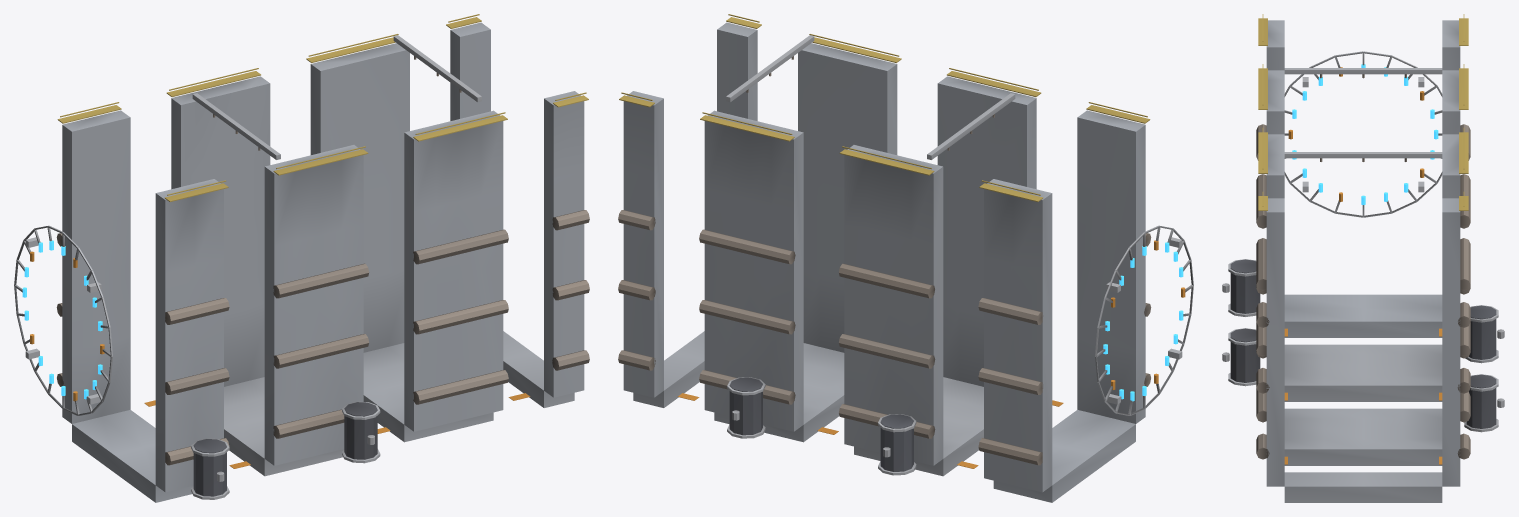
Rendered from 07_fuel_canyon.glb.
3 views of the same model, side by side, from view 1: azimuth 30°, elevation 25°; view 2: azimuth 150°, elevation 25°; view 3: azimuth 270°, elevation 25° (orthographic). The views are drawn at different scales.
Parts seen in each view (by area): view 1: fuel_canyon_shiphull, fuel_canyon_pipe_nocol, fuel_canyon_steel_nocol, fuel_canyon_truss_nocol, fuel_canyon_hulldark_nocol, fuel_canyon_glowcyan_nocol; view 2: fuel_canyon_shiphull, fuel_canyon_pipe_nocol, fuel_canyon_steel_nocol, fuel_canyon_truss_nocol, fuel_canyon_hulldark_nocol, fuel_canyon_glowcyan_nocol; view 3: fuel_canyon_shiphull, fuel_canyon_steel_nocol, fuel_canyon_hulldark_nocol, fuel_canyon_pipe_nocol, fuel_canyon_truss_nocol, fuel_canyon_glowcyan_nocol, fuel_canyon_hazard_nocol.
Boxes of the visible parts, bbox=[...] form: fuel_canyon_shiphull: bbox=[62, 22, 584, 502]; fuel_canyon_pipe_nocol: bbox=[56, 56, 589, 465]; fuel_canyon_steel_nocol: bbox=[14, 35, 481, 499]; fuel_canyon_truss_nocol: bbox=[57, 14, 588, 201]; fuel_canyon_hulldark_nocol: bbox=[193, 402, 377, 496]; fuel_canyon_glowcyan_nocol: bbox=[22, 240, 102, 399]; fuel_canyon_shiphull: bbox=[623, 22, 1145, 502]; fuel_canyon_pipe_nocol: bbox=[618, 56, 1151, 465]; fuel_canyon_steel_nocol: bbox=[726, 35, 1193, 475]; fuel_canyon_truss_nocol: bbox=[619, 14, 1150, 201]; fuel_canyon_hulldark_nocol: bbox=[729, 377, 913, 471]; fuel_canyon_glowcyan_nocol: bbox=[1103, 242, 1183, 401]; fuel_canyon_shiphull: bbox=[1266, 20, 1460, 502]; fuel_canyon_steel_nocol: bbox=[1222, 51, 1504, 432]; fuel_canyon_hulldark_nocol: bbox=[1230, 259, 1496, 428]; fuel_canyon_pipe_nocol: bbox=[1256, 74, 1470, 459]; fuel_canyon_truss_nocol: bbox=[1258, 14, 1468, 210]; fuel_canyon_glowcyan_nocol: bbox=[1292, 64, 1438, 204]; fuel_canyon_hazard_nocol: bbox=[1284, 67, 1442, 464].
Bounding box in the file's own units: 85 × 55.9 × 46.6.
